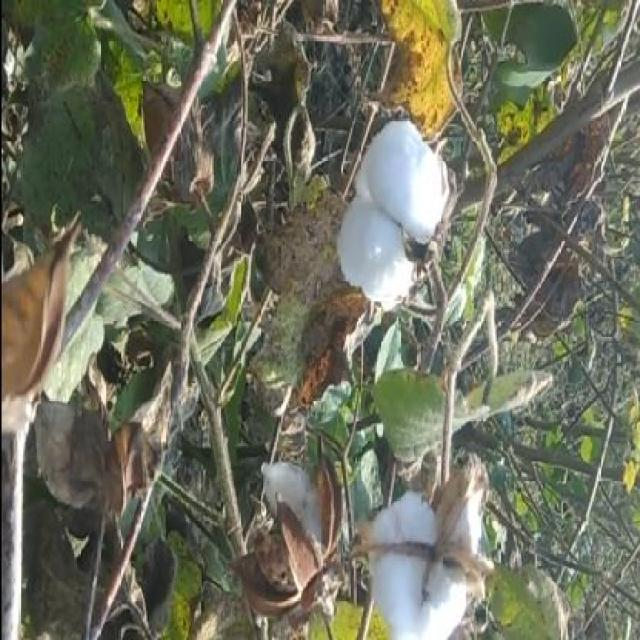cotton_ready: (309, 87, 466, 318), (340, 426, 509, 632)
